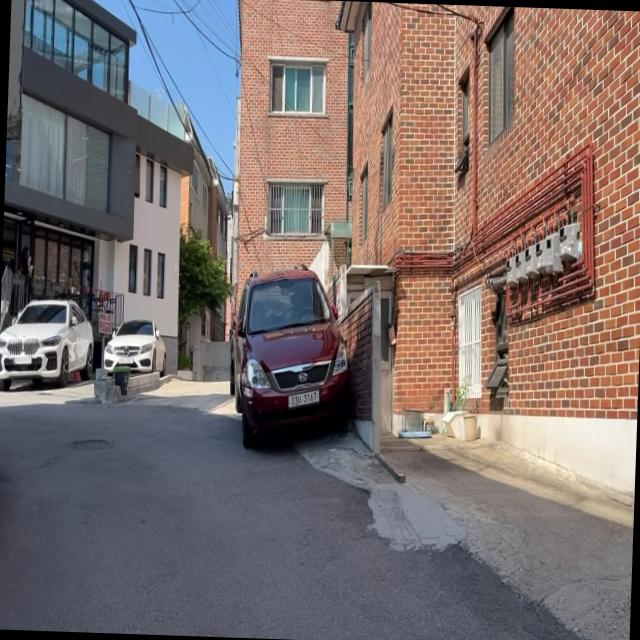building: (230, 0, 640, 481), (0, 0, 219, 346)
car: (226, 260, 354, 450), (0, 295, 94, 393), (103, 316, 167, 376)
